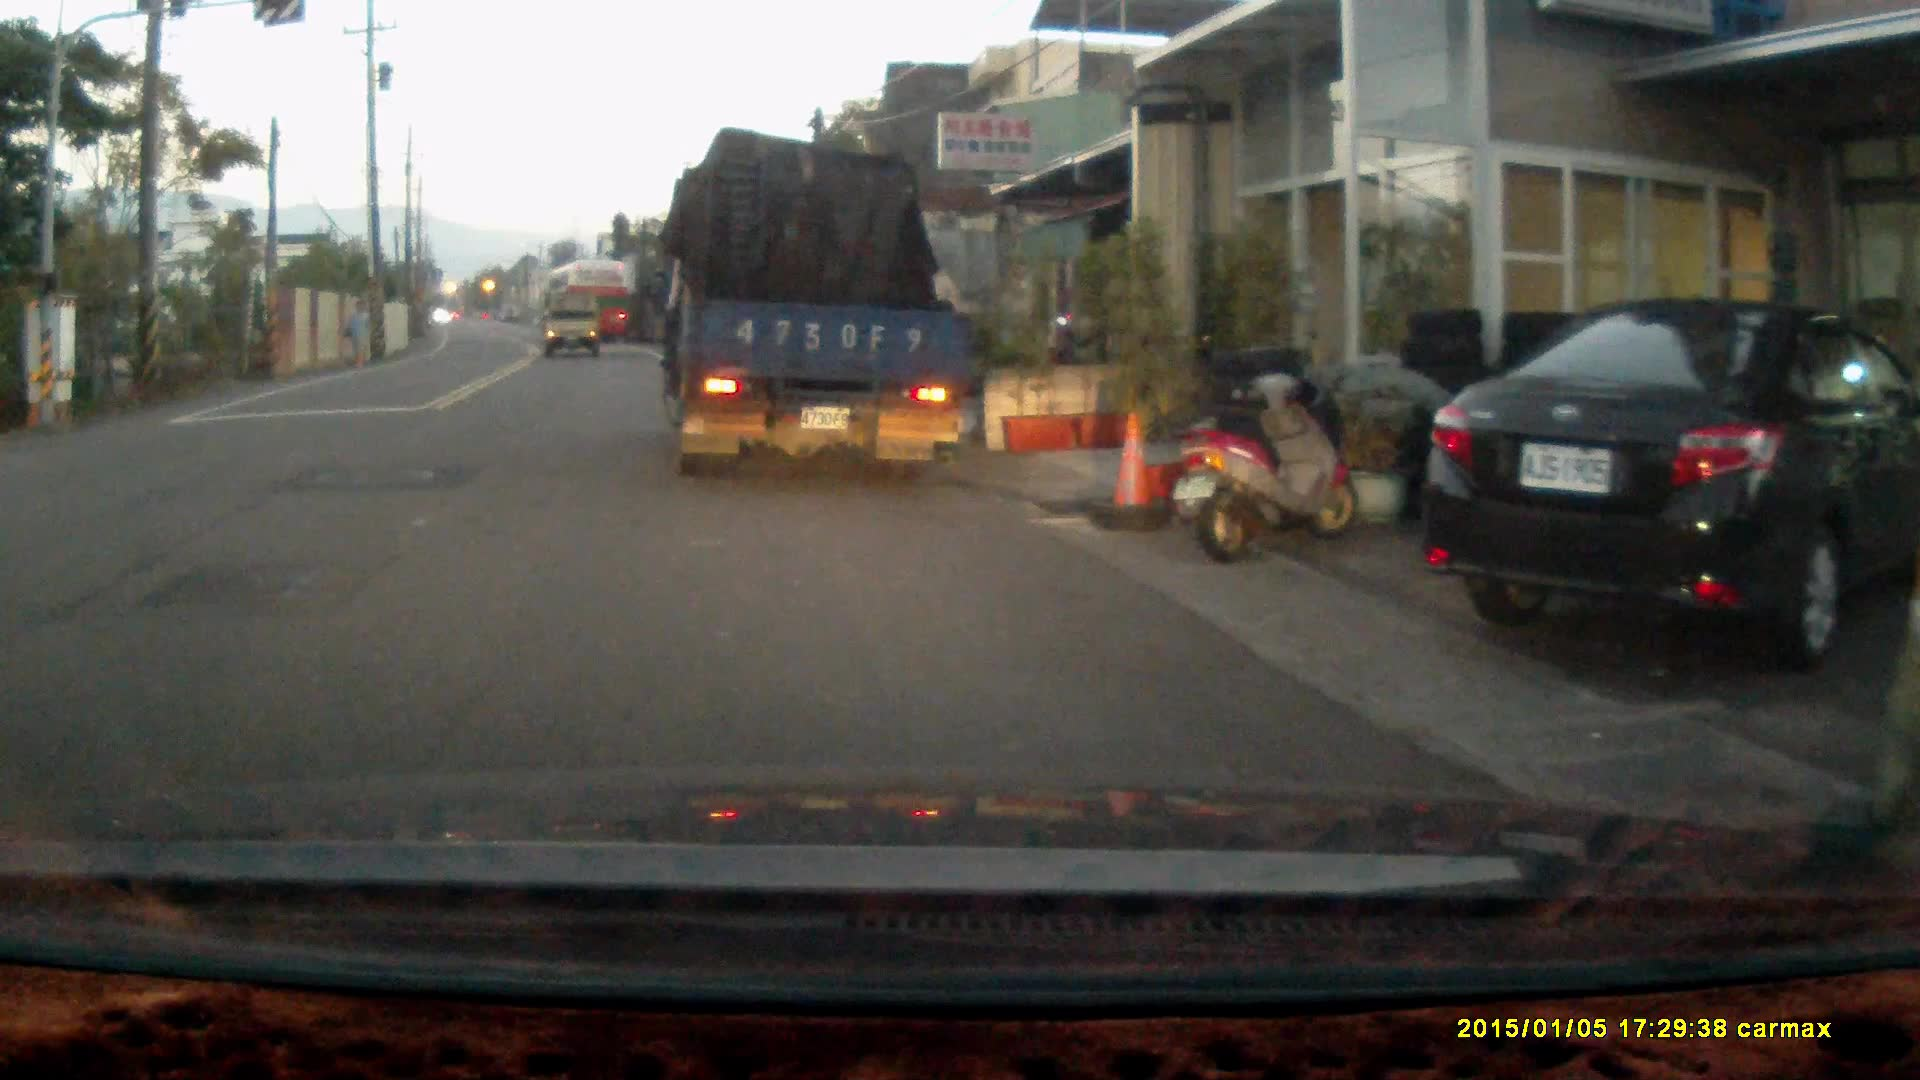pedestrian: (333, 296, 367, 367)
vehicle: (1419, 293, 1920, 670), (656, 135, 966, 491), (545, 260, 632, 338), (544, 291, 602, 362)
